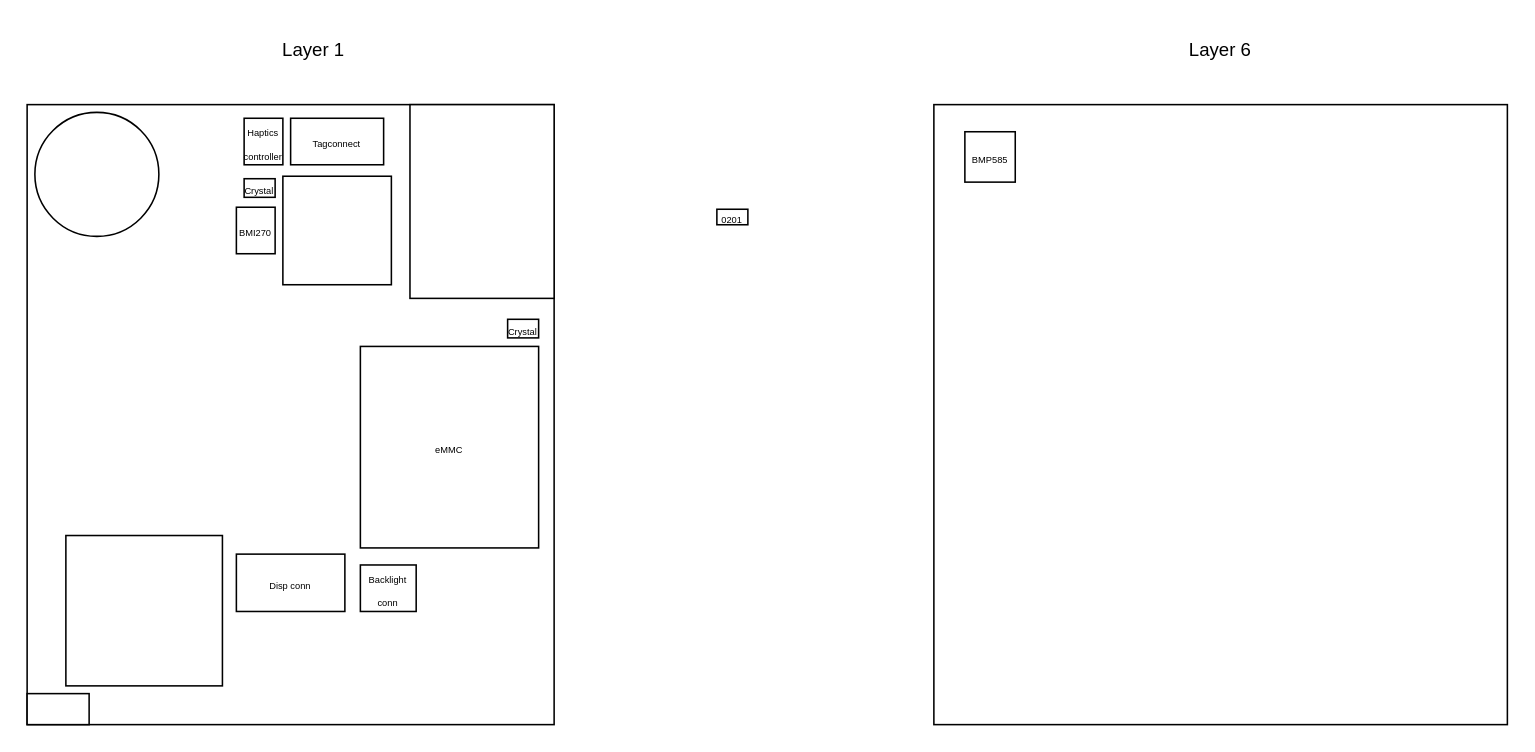
The diagram is 1535 pixels wide and 752 high, and some of its shapes have lost their labels. The shapes that lost their labels are listed below. From the top down, each one's box as (x1, y1, x2, y2) in pixels, then its label:
(33, 111, 159, 236): LRA
(408, 103, 554, 298): Bluetooth module Vela-IF820
(281, 175, 391, 285): STM32U5
(64, 534, 222, 686): GPS module MAX-M10S-00B
(26, 692, 89, 725): Chip antenna
